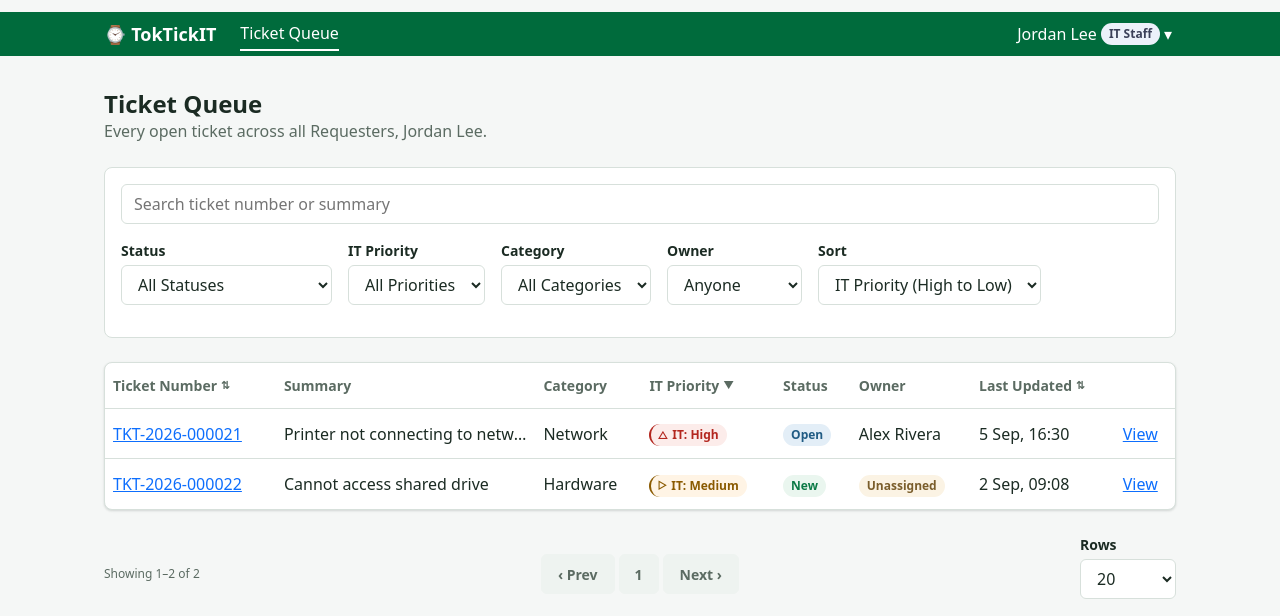
No-results state ("No tickets match these filters") › shows NoResultsState with Clear filters when a filter matches nothing but the queue isn't empty overall; Clear filters resets and refetches
Expected: the table is shown, [105,363,1175,509]
Select "Closed" in the dropdown labelled "Status". click: (226, 285)
box: [121,265,332,305]
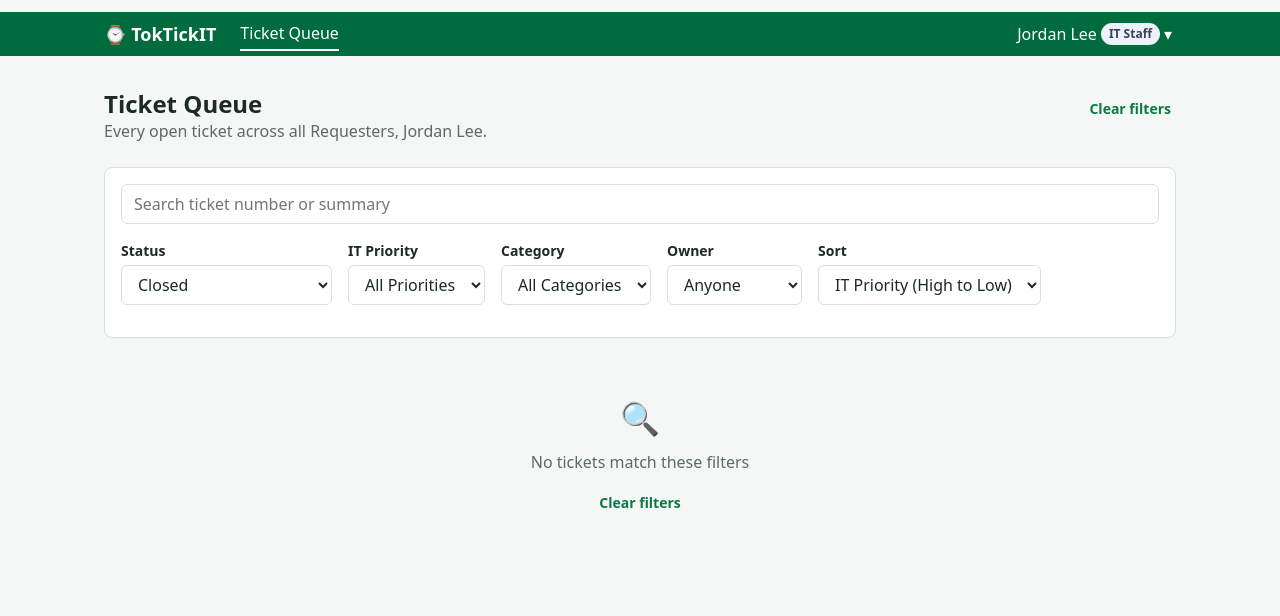
Click the button "Clear filters" below "No tickets match these filters". click: (640, 502)
box: [594,482,686,522]
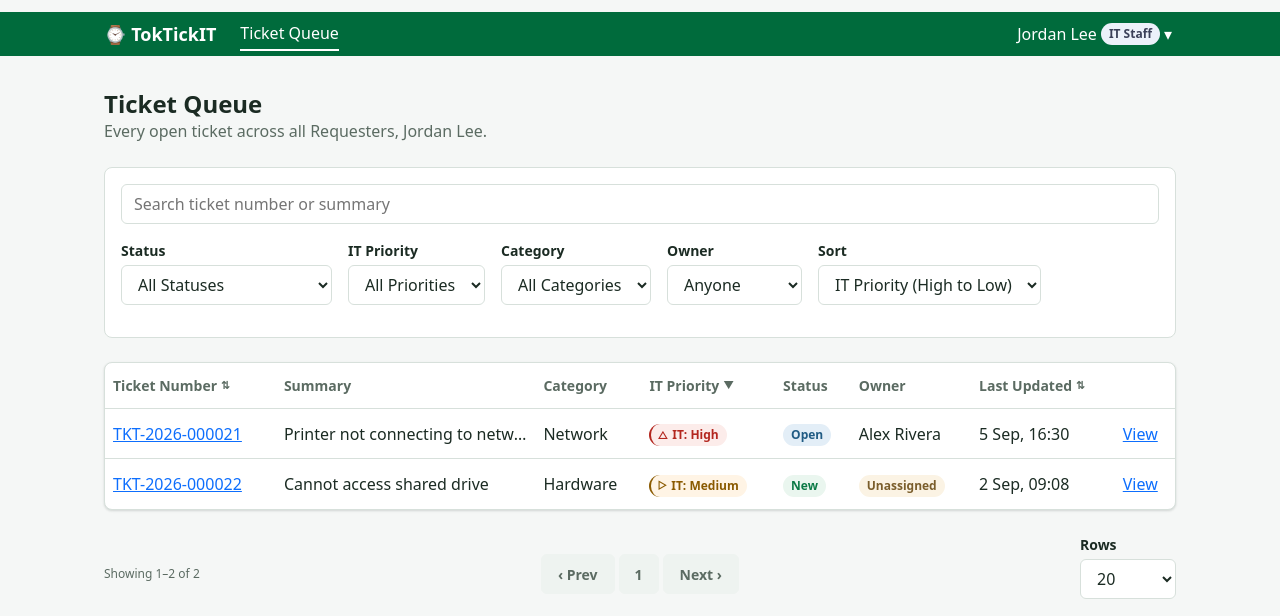
Expected: the table is shown, [105,363,1175,509]
Expected: the dropdown labelled "Status" shows "All Statuses", [121,265,332,305]
